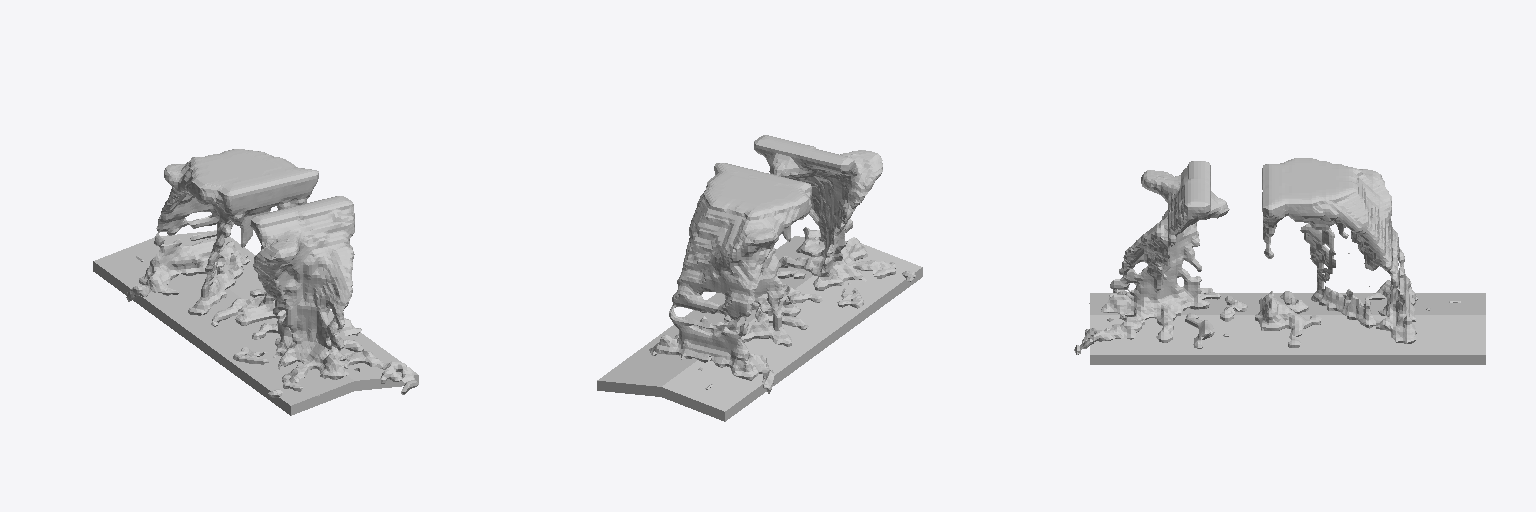
File: Watersim_000026.obj
3 views of the same model, side by side, from view 1: azimuth 30°, elevation 25°; view 2: azimuth 150°, elevation 25°; view 3: azimuth 270°, elevation 25° (orthographic).
Visible parts, largest first — view 1: Domain_Cube.006, Straße_Cube.007; view 2: Domain_Cube.006, Straße_Cube.007; view 3: Domain_Cube.006, Straße_Cube.007.
Part boxes in pixels (x1,y1,x2,y2): Domain_Cube.006: (126,149,418,397); Straße_Cube.007: (93,231,418,415); Domain_Cube.006: (649,135,915,393); Straße_Cube.007: (597,236,922,421); Domain_Cube.006: (1074,158,1460,354); Straße_Cube.007: (1090,293,1485,364).
Size of the model in its own units: 2.4 by 2.61 by 6.31.